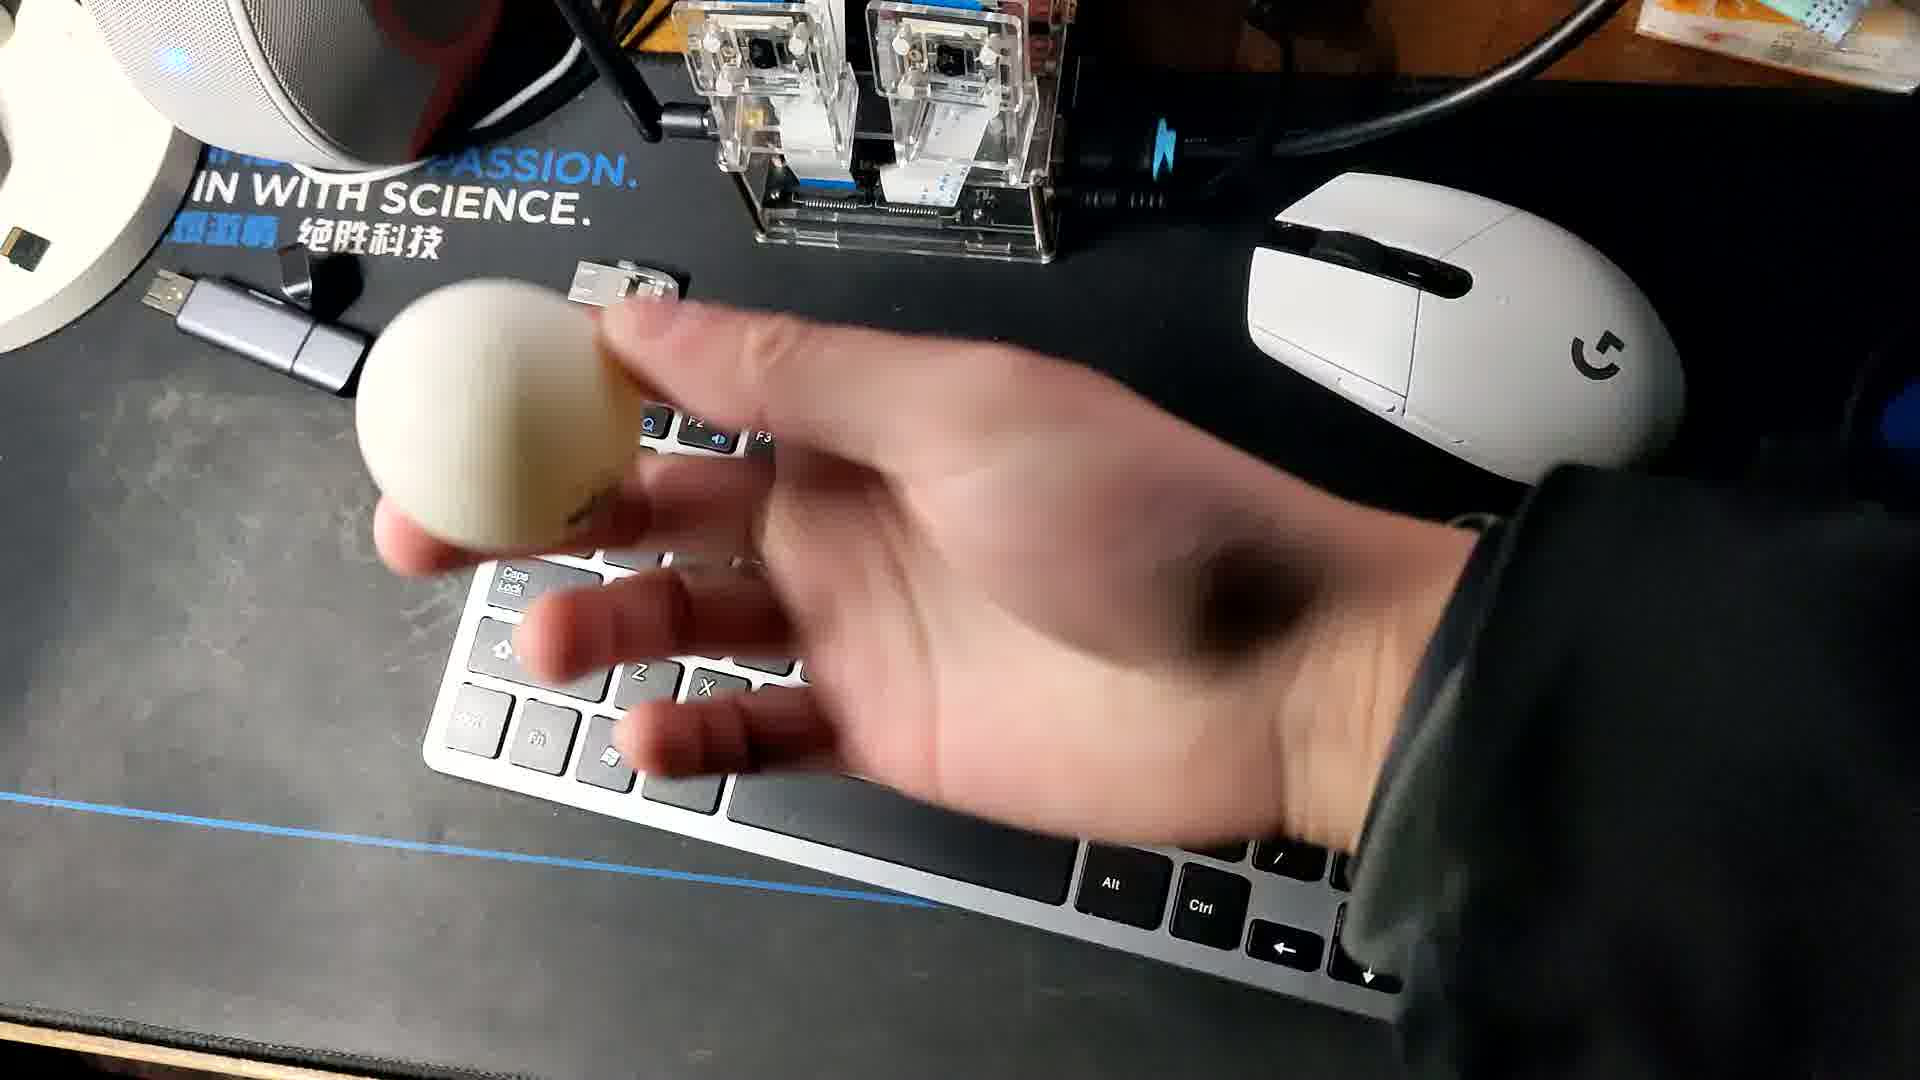Ball: (357, 280, 644, 556)
